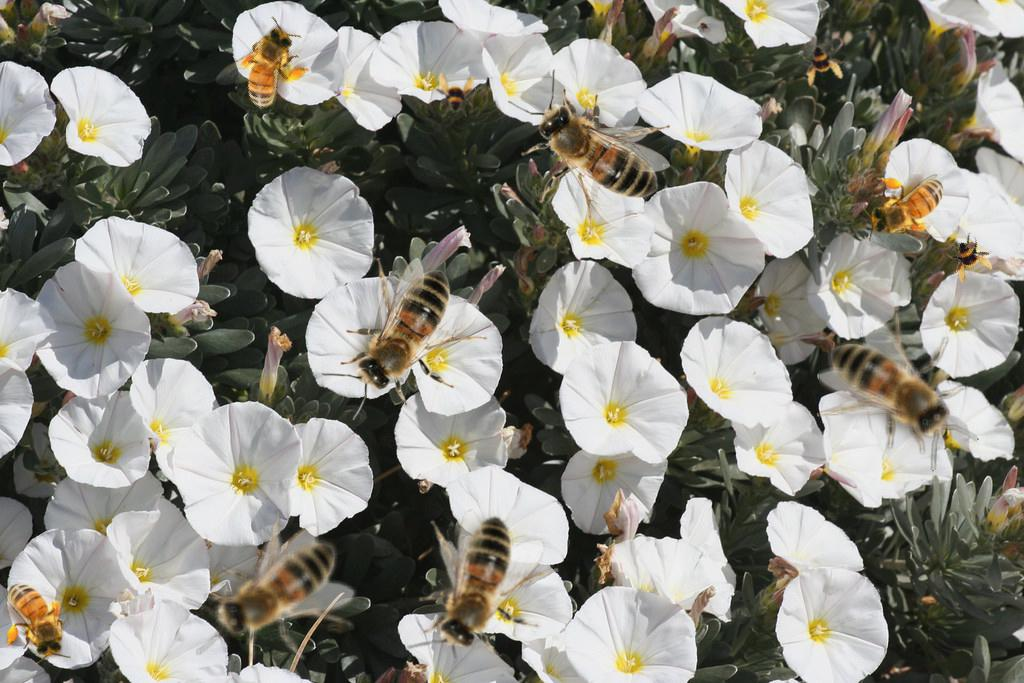Bee: (167, 490, 382, 683), (376, 492, 581, 683), (508, 69, 670, 236), (817, 305, 979, 472), (321, 258, 488, 420), (209, 11, 325, 126), (3, 571, 71, 664), (863, 174, 956, 242), (940, 227, 1000, 287), (795, 34, 851, 90), (432, 73, 476, 117)
